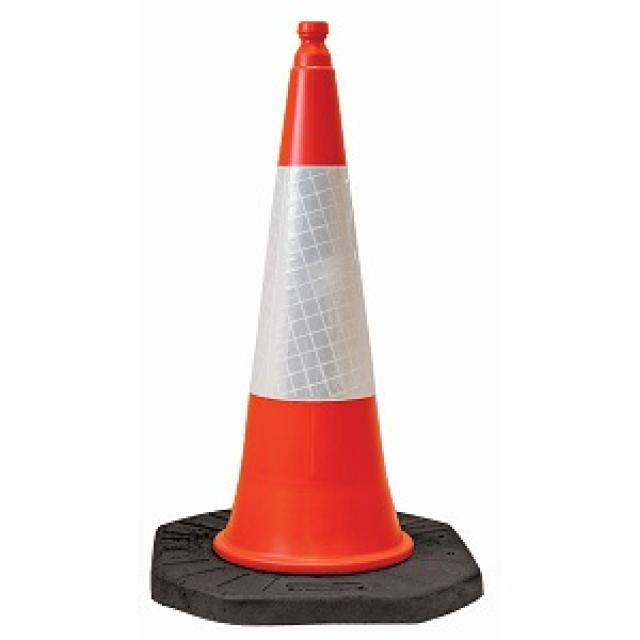cone: (149, 19, 482, 623)
